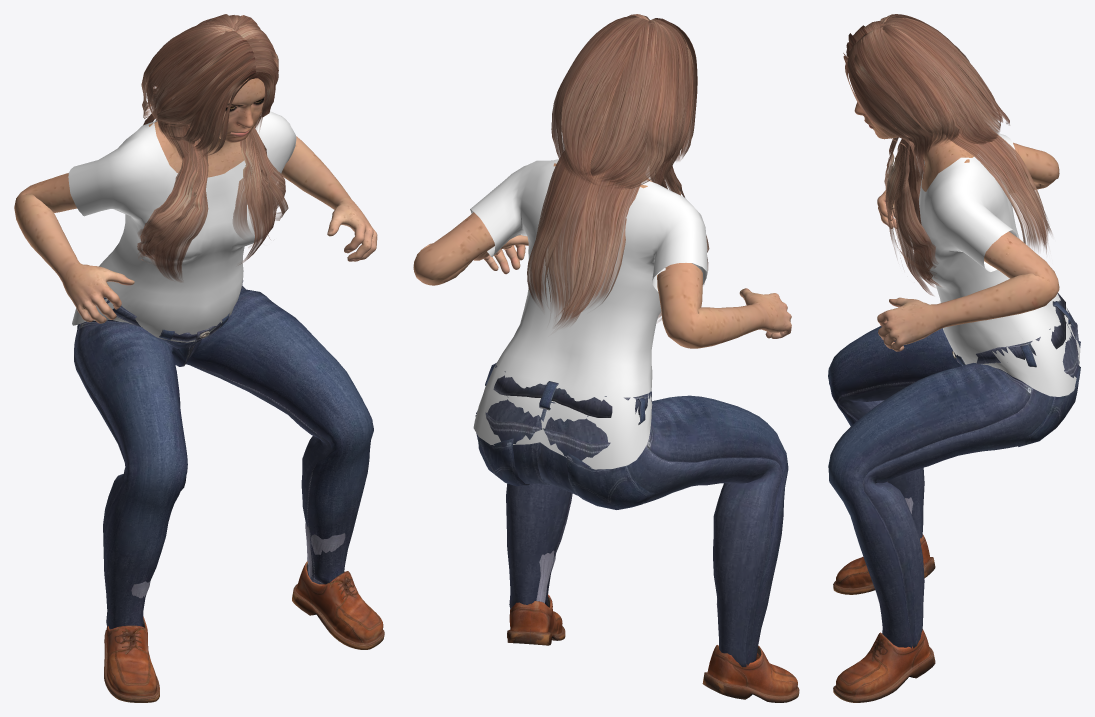
The model's file is donna-05.glb.
3 renders of one model, left to right at view 1: azimuth 30°, elevation 25°; view 2: azimuth 150°, elevation 25°; view 3: azimuth 270°, elevation 25°, orthographic. The views are drawn at different scales.
Visible parts, largest first — view 1: Human.punkduck_female_tight_jeans, Human.joepal_crude_t-shirt_female, Human.elvs_daisy_hair, Human, Human.shoes01; view 2: Human.punkduck_female_tight_jeans, Human.joepal_crude_t-shirt_female, Human.elvs_daisy_hair, Human, Human.shoes01; view 3: Human.punkduck_female_tight_jeans, Human.elvs_daisy_hair, Human.joepal_crude_t-shirt_female, Human, Human.shoes01.
Boxes of the visible parts, left/top/right/bottom form: Human.punkduck_female_tight_jeans: left=74, top=280, right=373, bottom=629; Human.joepal_crude_t-shirt_female: left=68, top=111, right=296, bottom=342; Human.elvs_daisy_hair: left=137, top=14, right=288, bottom=282; Human: left=14, top=32, right=377, bottom=323; Human.shoes01: left=104, top=523, right=384, bottom=702; Human.punkduck_female_tight_jeans: left=475, top=363, right=788, bottom=667; Human.joepal_crude_t-shirt_female: left=470, top=159, right=707, bottom=469; Human.elvs_daisy_hair: left=527, top=14, right=709, bottom=328; Human: left=413, top=80, right=791, bottom=348; Human.shoes01: left=507, top=550, right=799, bottom=702; Human.punkduck_female_tight_jeans: left=828, top=293, right=1080, bottom=648; Human.elvs_daisy_hair: left=843, top=14, right=1052, bottom=295; Human.joepal_crude_t-shirt_female: left=914, top=132, right=1080, bottom=396; Human: left=854, top=102, right=1059, bottom=351; Human.shoes01: left=833, top=497, right=935, bottom=702.
Bounding box in the file's own units: 0.6333 × 1.28 × 0.475.
13 materials, 13 textured.
